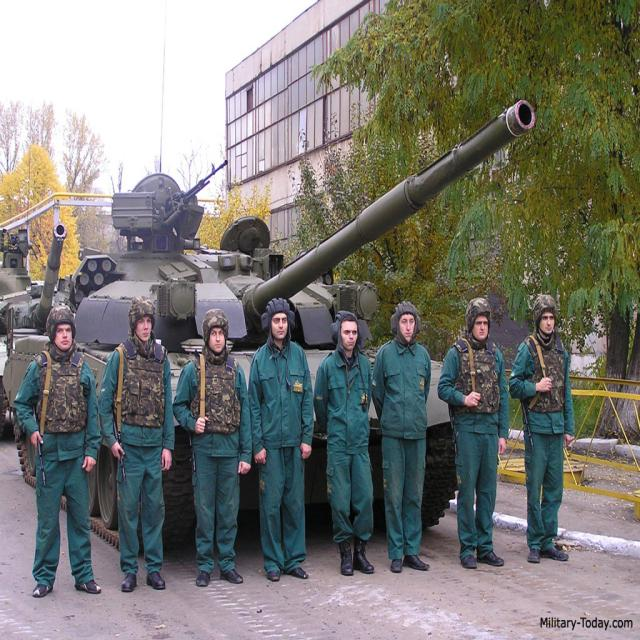Tank: (91, 162, 458, 531)
